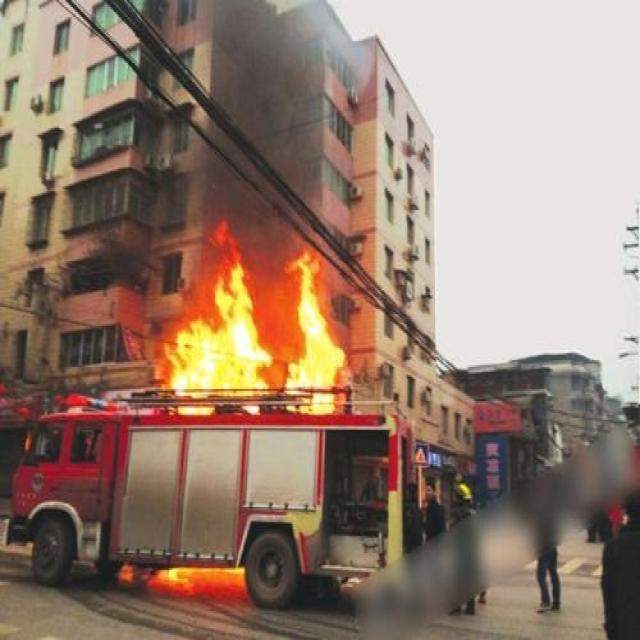Fire: (150, 218, 272, 414), (283, 250, 347, 414), (152, 566, 246, 598)
Smoke: (192, 2, 375, 272)
